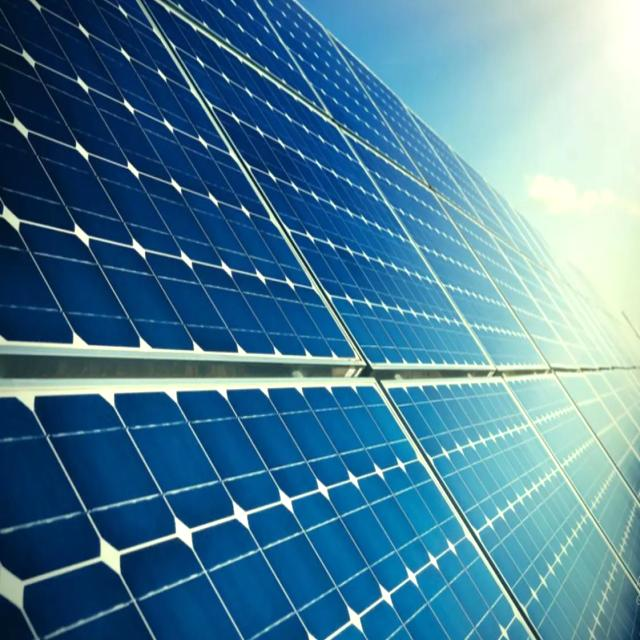crack: (0, 0, 631, 369), (4, 373, 640, 640)
